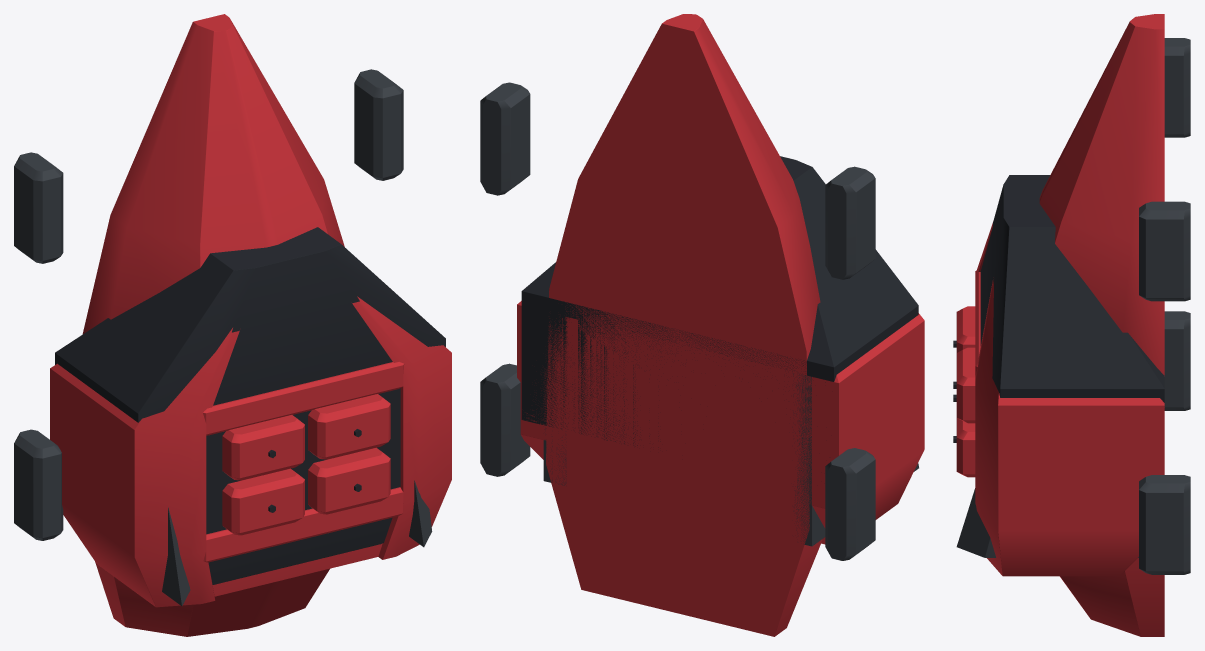
Rendered from CalfFront_Set02_Bastion.fbx.
3 renders of one model, left to right at view 1: azimuth 30°, elevation 25°; view 2: azimuth 150°, elevation 25°; view 3: azimuth 270°, elevation 25°, orthographic. The views are drawn at different scales.
Parts seen in each view (by area): view 1: CalfFront_Set02_Bastion; view 2: CalfFront_Set02_Bastion; view 3: CalfFront_Set02_Bastion.
Boxes of the visible parts, x1,y1,x2,y2 form: CalfFront_Set02_Bastion: [14, 14, 451, 636]; CalfFront_Set02_Bastion: [480, 14, 924, 636]; CalfFront_Set02_Bastion: [953, 14, 1190, 636].
Size of the model in its own units: 0.49 by 0.73 by 0.2756.
